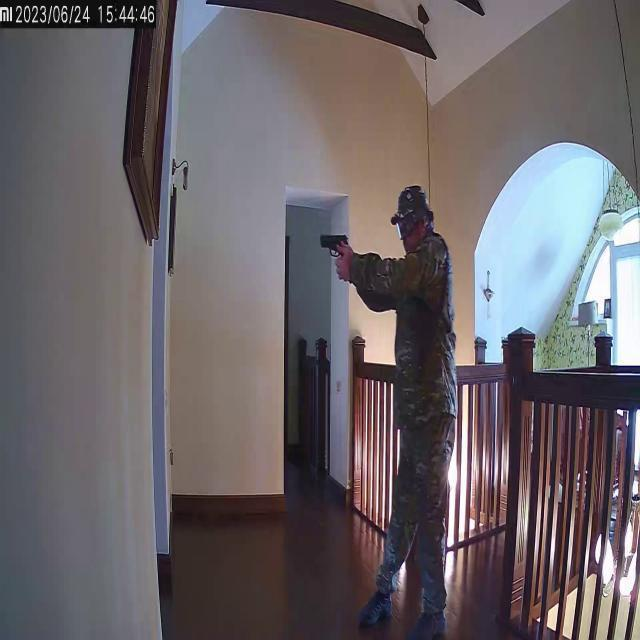pistol: (320, 228, 350, 267)
